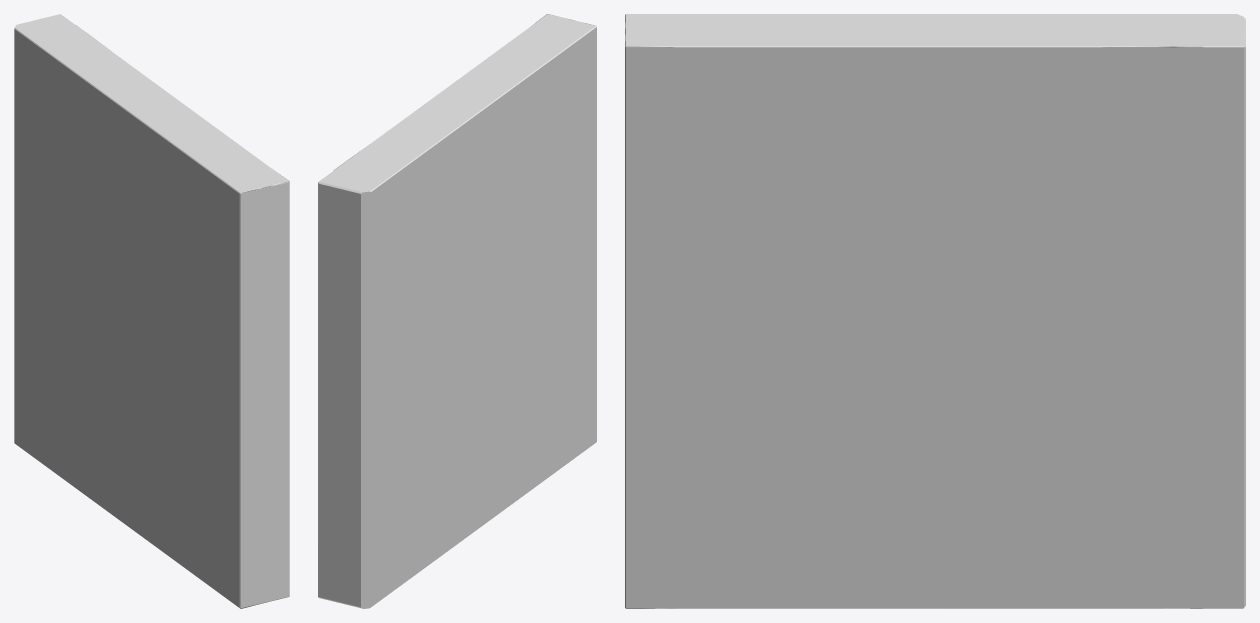
The model's file is SM_slum_wall_04.fbx.
3 renders of one model, left to right at view 1: azimuth 30°, elevation 25°; view 2: azimuth 150°, elevation 25°; view 3: azimuth 270°, elevation 25°, orthographic. The views are drawn at different scales.
Parts seen in each view (by area): view 1: SM_slum_wall_04_ConvexHulls; view 2: SM_slum_wall_04_ConvexHulls; view 3: SM_slum_wall_04_ConvexHulls.
Part boxes in pixels (x1,y1,x2,y2): SM_slum_wall_04_ConvexHulls: [14, 14, 289, 608]; SM_slum_wall_04_ConvexHulls: [318, 14, 596, 608]; SM_slum_wall_04_ConvexHulls: [625, 14, 1245, 608].
Bounding box in the file's own units: 50.2 × 400 × 400.
